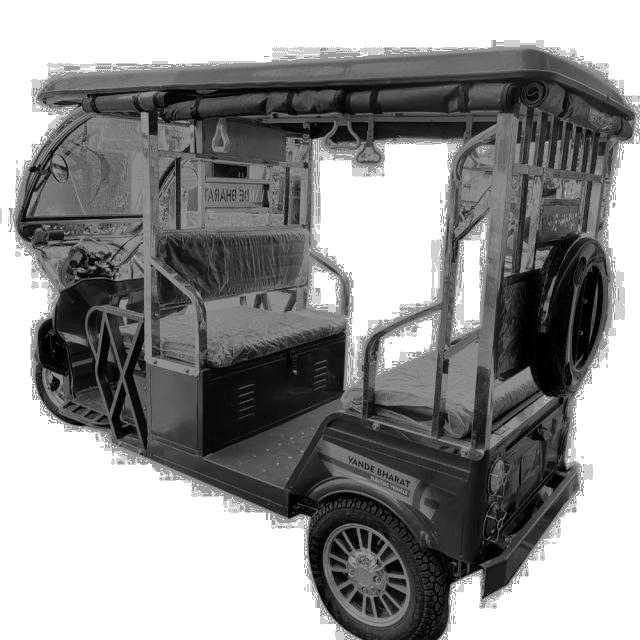Toto: (10, 45, 640, 640)
